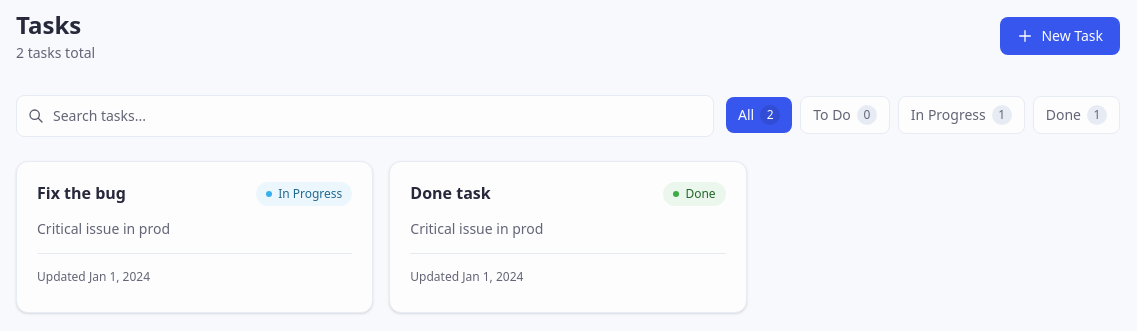
Test case: Dashboard › filters tasks by status
Click the button "Done 1".
click(1076, 115)  # box [1033,96,1120,134]
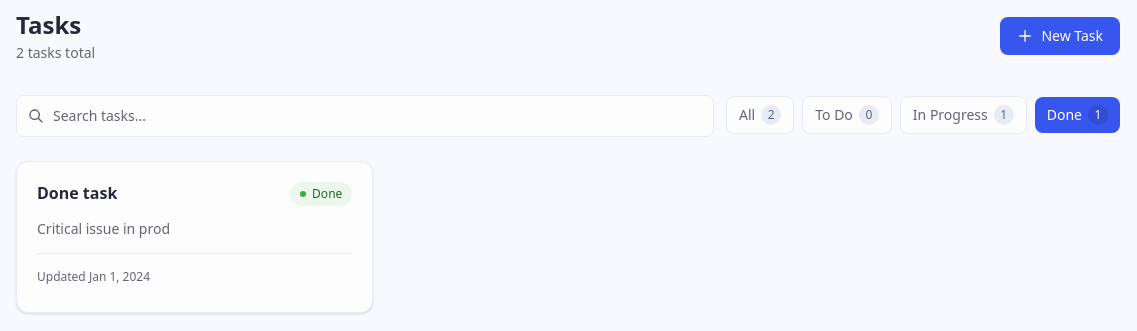
expect the heading "Done task" is shown: met, box [37,182,117,204]
expect the heading "Fix the bug" is gone: met
